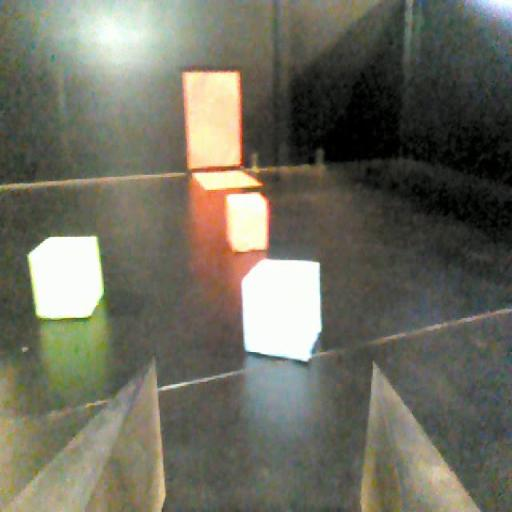cube: (234, 256, 328, 370), (26, 234, 106, 327), (222, 189, 270, 257)
